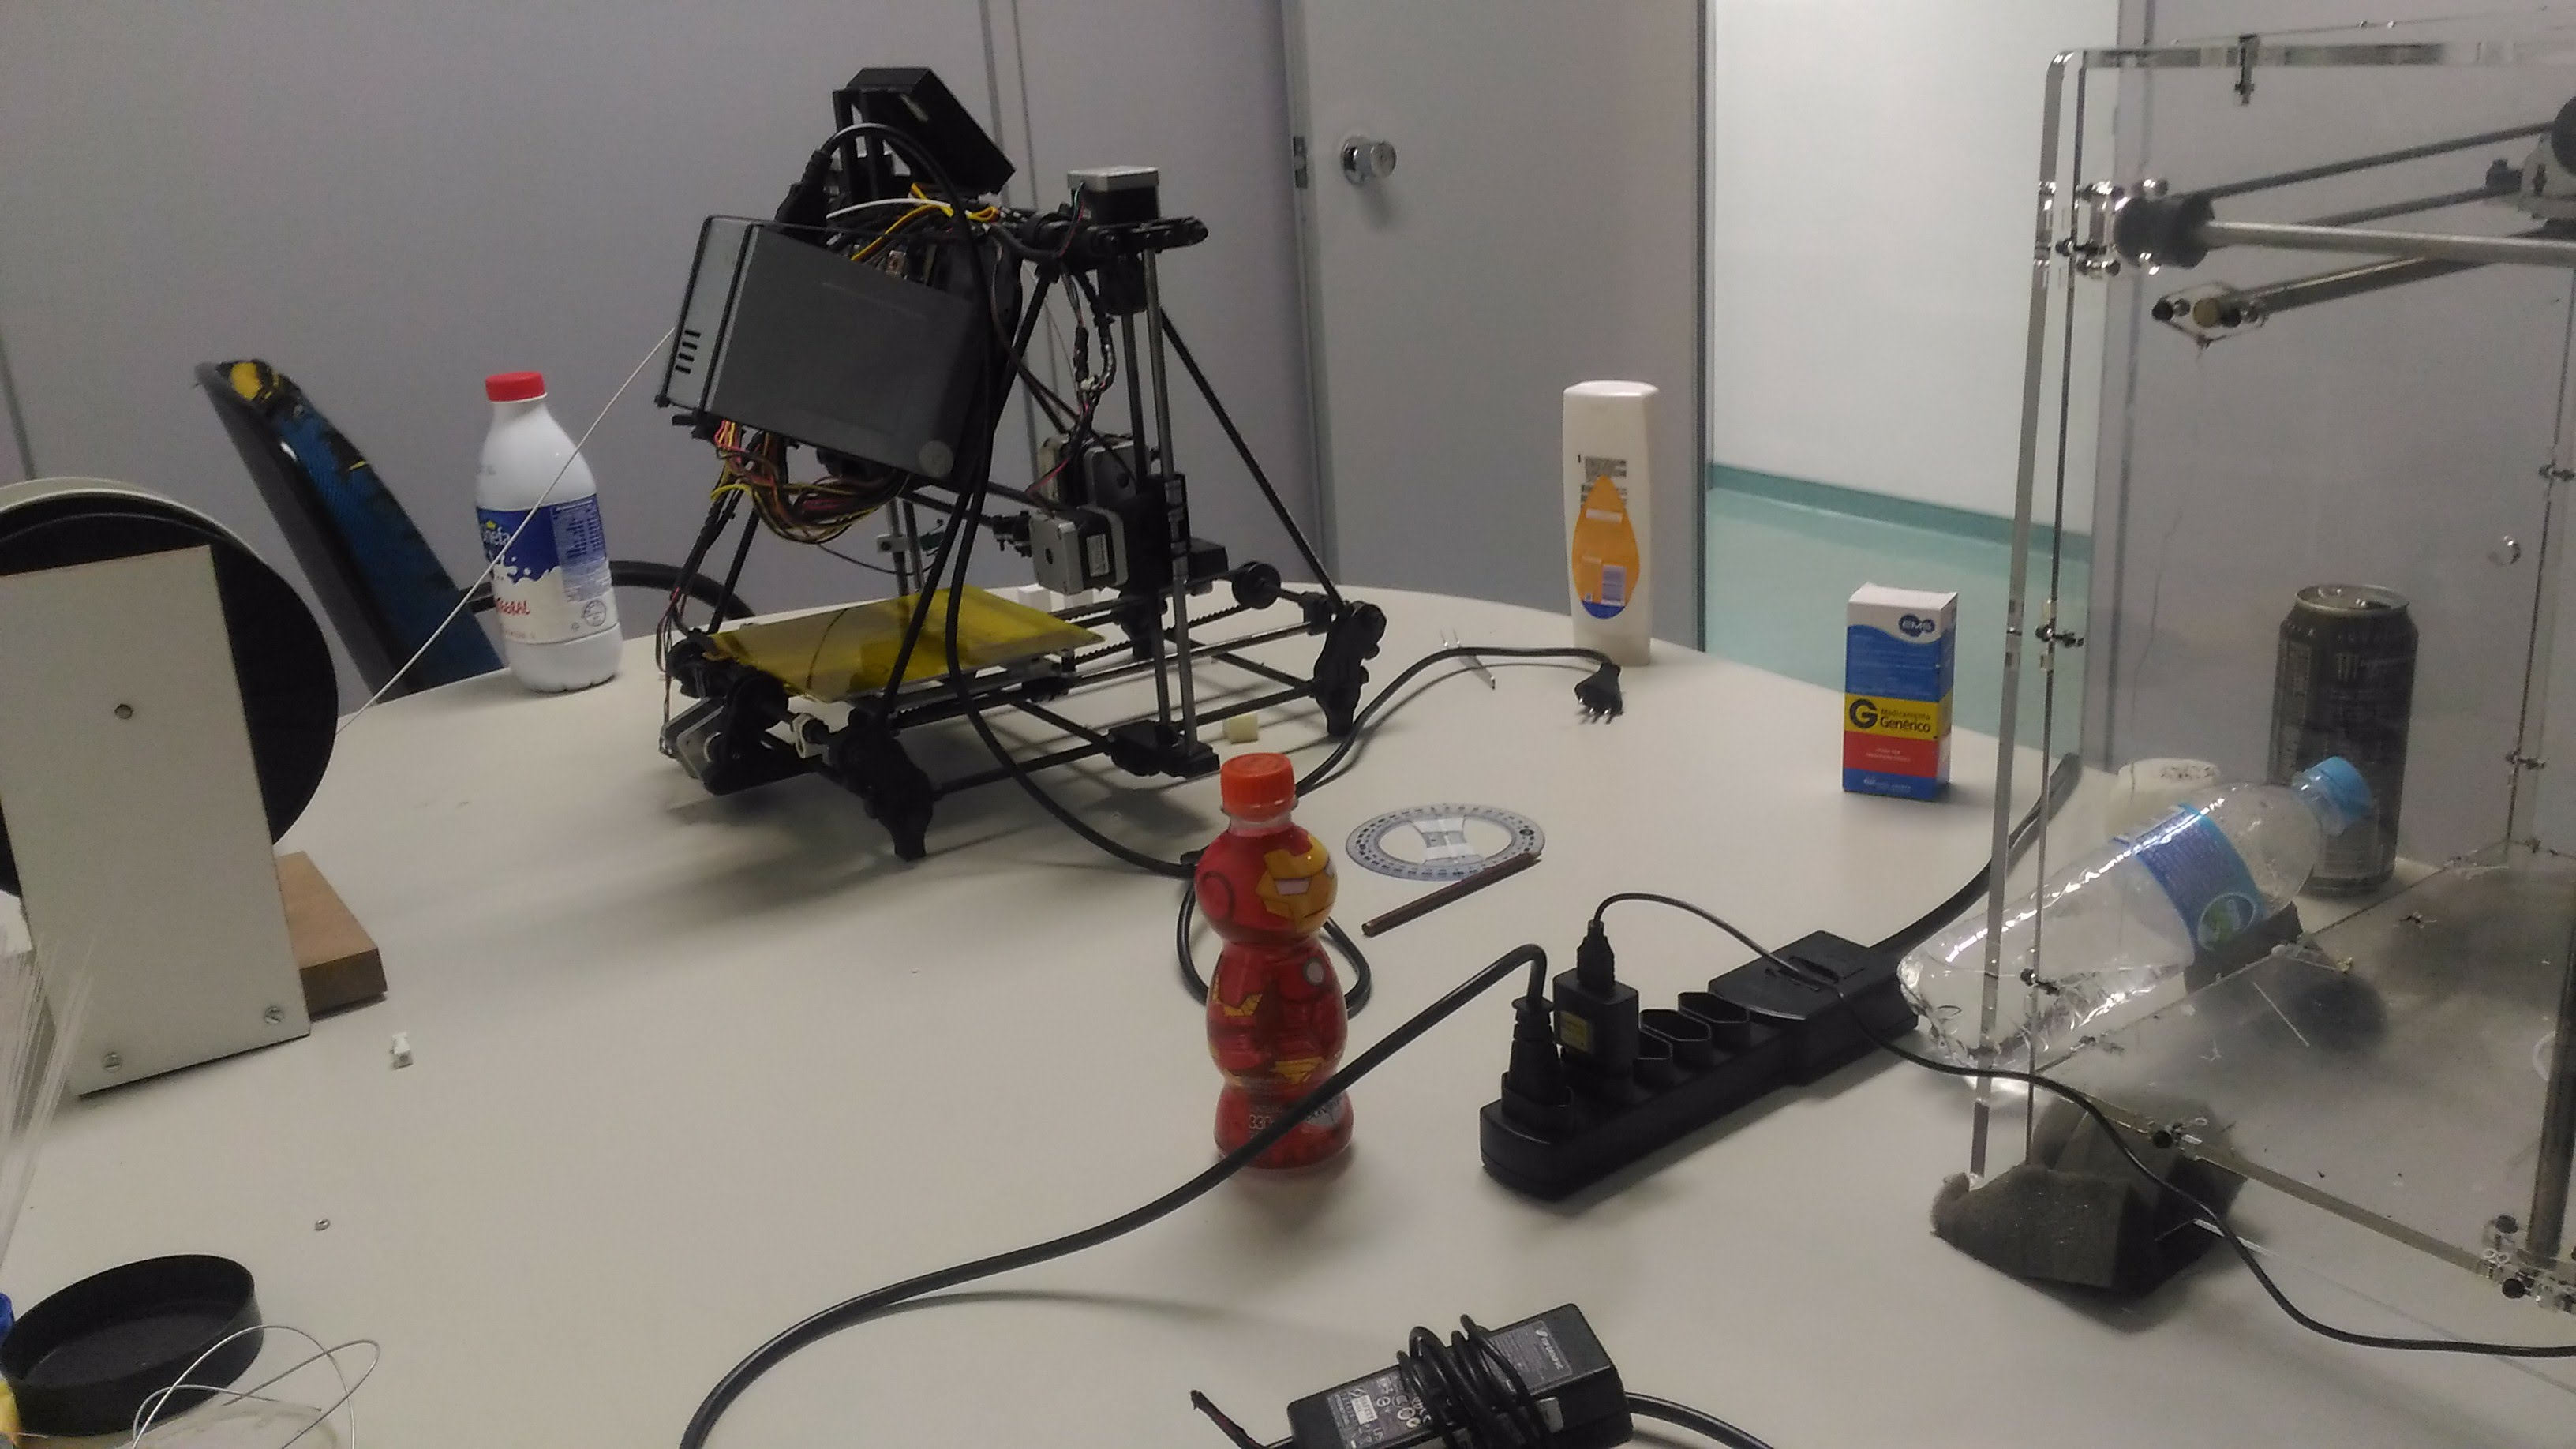iron_man: (1184, 754, 1379, 1173)
medicine: (1832, 571, 1968, 824)
milk_bottle: (469, 354, 635, 703)
monster: (2267, 571, 2421, 915)
shampoo: (1553, 376, 1674, 679)
